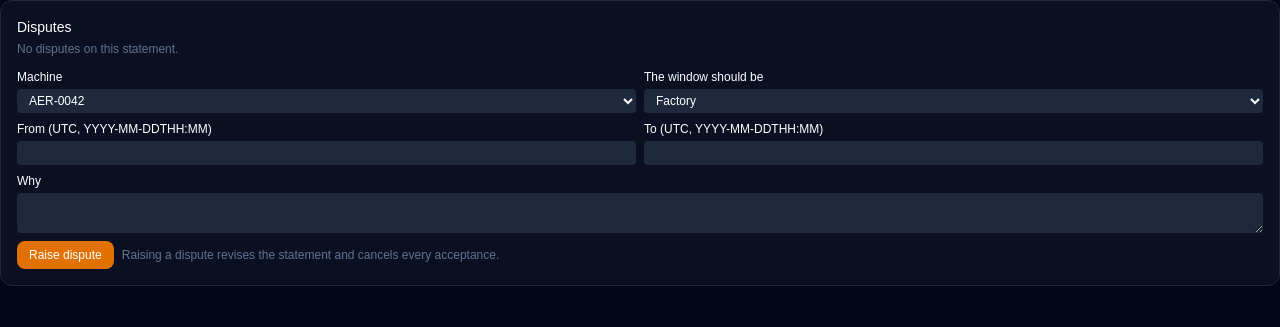
Test: DisputePanel › refuses to send a window it cannot read as UTC
The image size is (1280, 327).
Type "02/05/2026 08:00" into the field labelled "From (UTC, YYYY-MM-DDTHH:MM)" at (326, 153), box 17,141 -> 636,165
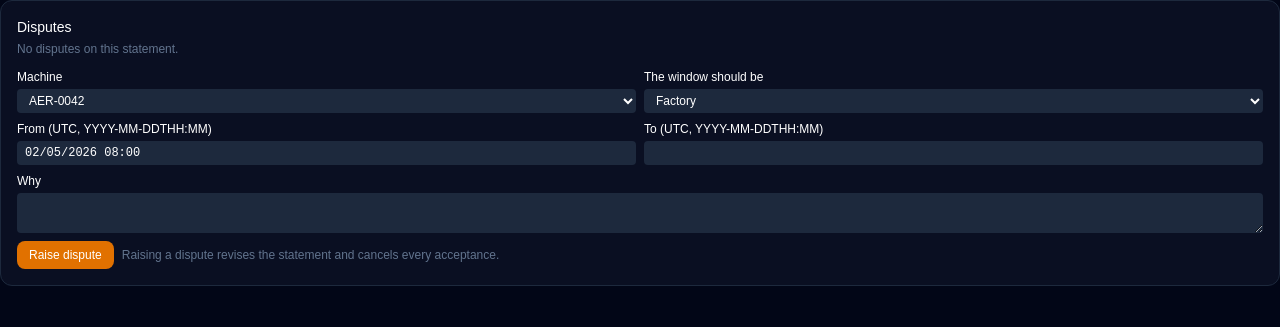
Type "2026-05-02T09:30" into the field labelled "To (UTC, YYYY-MM-DDTHH:MM)" at (954, 153), box 644,141 -> 1263,165
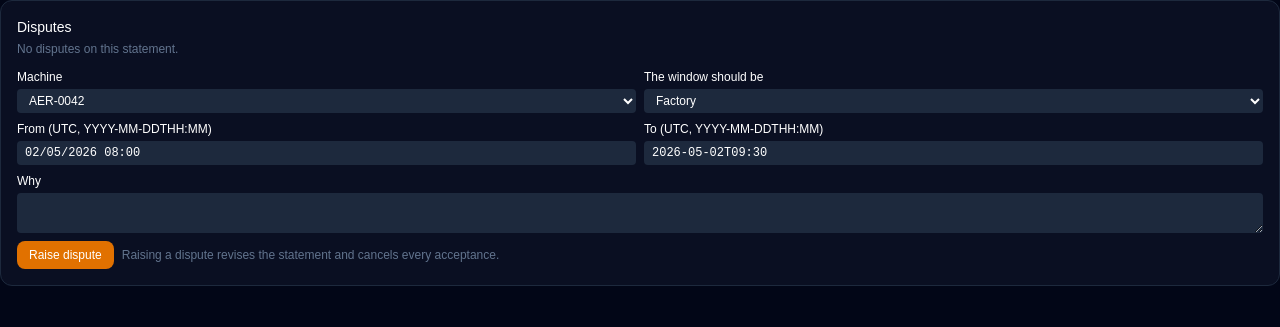
Type "x" into the text box labelled "Why" at (640, 213), box 17,193 -> 1263,233
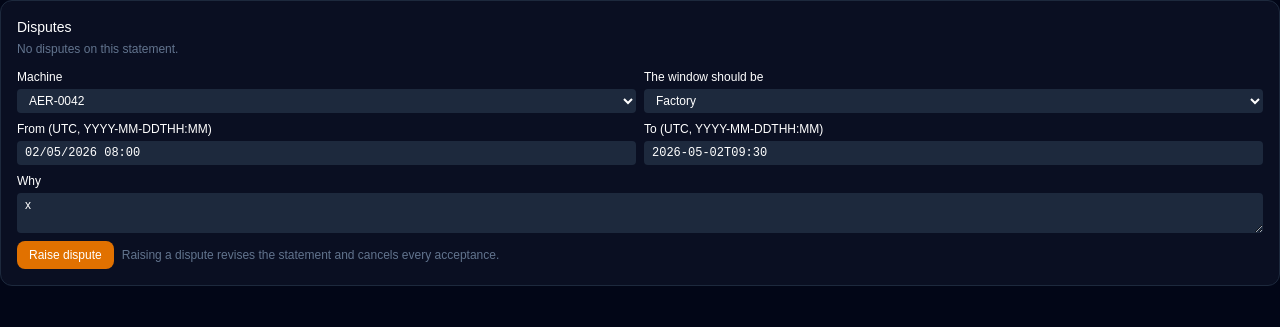
Click the button "Raise dispute" at (65, 255), box 17,241 -> 114,269
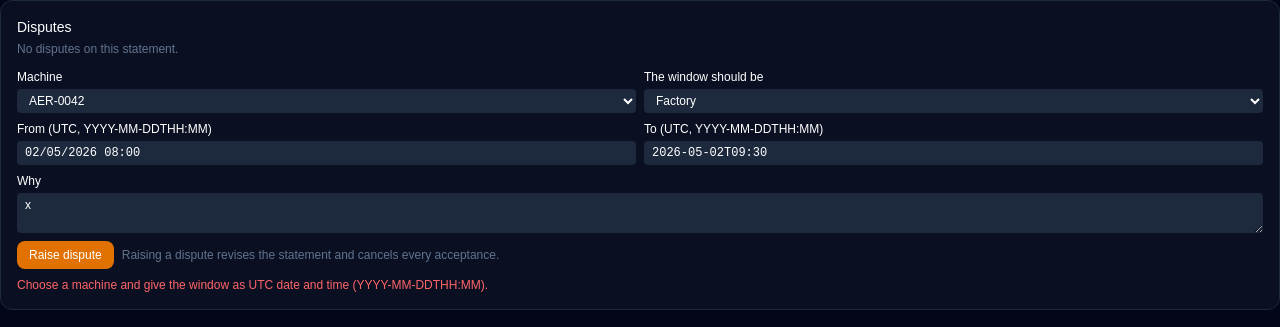
Check: the message shows "UTC date and time", box 17,278 -> 488,292
